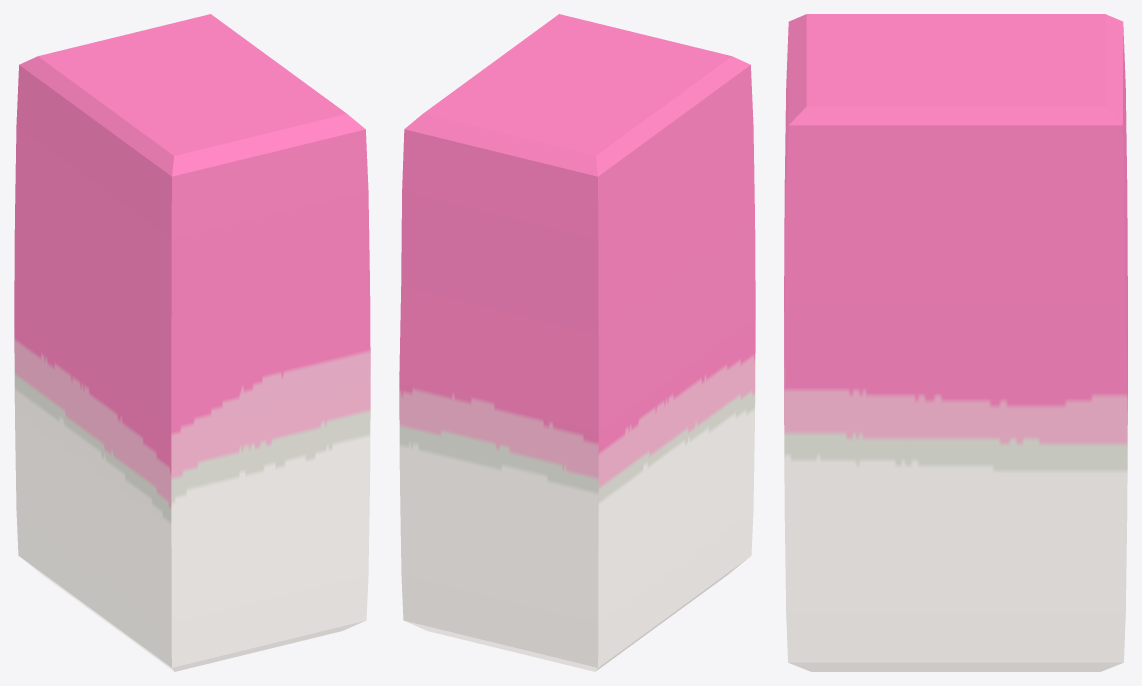
File: swizzels-squashies.glb
3 renders of one model, left to right at view 1: azimuth 30°, elevation 25°; view 2: azimuth 150°, elevation 25°; view 3: azimuth 270°, elevation 25°, orthographic. The views are drawn at different scales.
Visible parts, largest first — view 1: Cube; view 2: Cube; view 3: Cube.
Boxes of the visible parts, <box> form: Cube: <box>14,14,370,671</box>; Cube: <box>399,14,755,671</box>; Cube: <box>784,14,1127,671</box>.
Size of the model in its own units: 1.21 by 3.01 by 1.65.
1 material, 1 textured.
